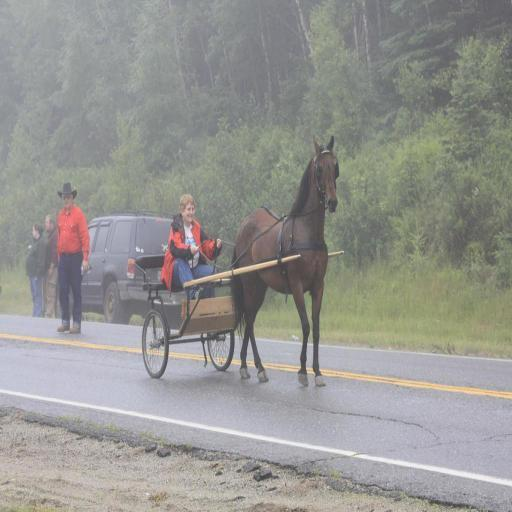horse: (228, 133, 338, 387)
